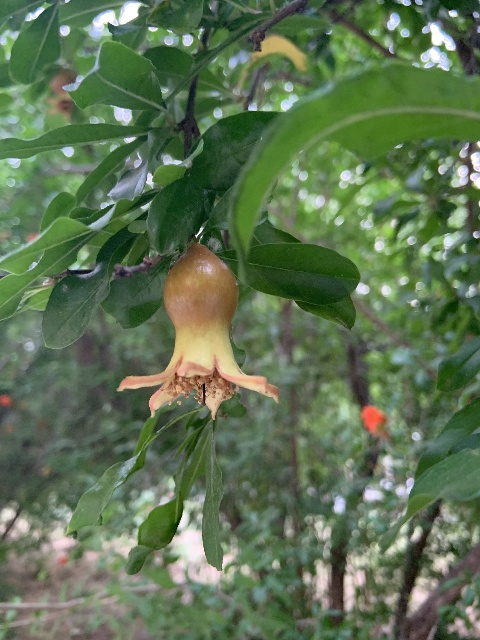early-fruit: (115, 243, 277, 419), (44, 68, 77, 121)
